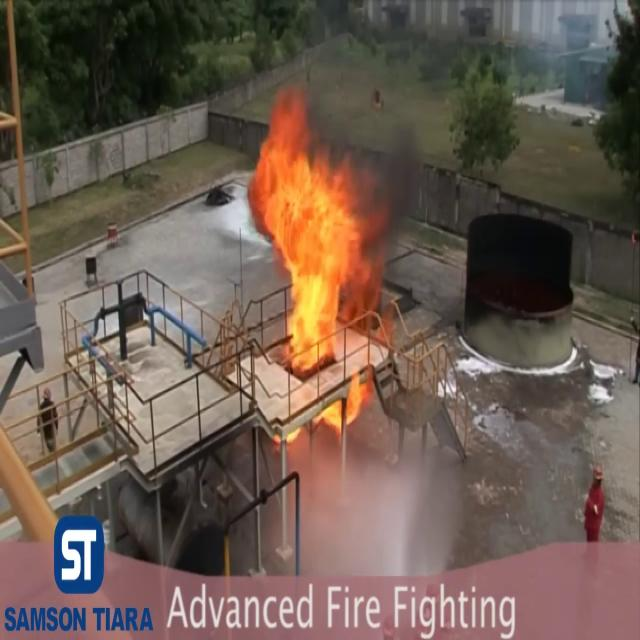Fire: (249, 82, 391, 430)
